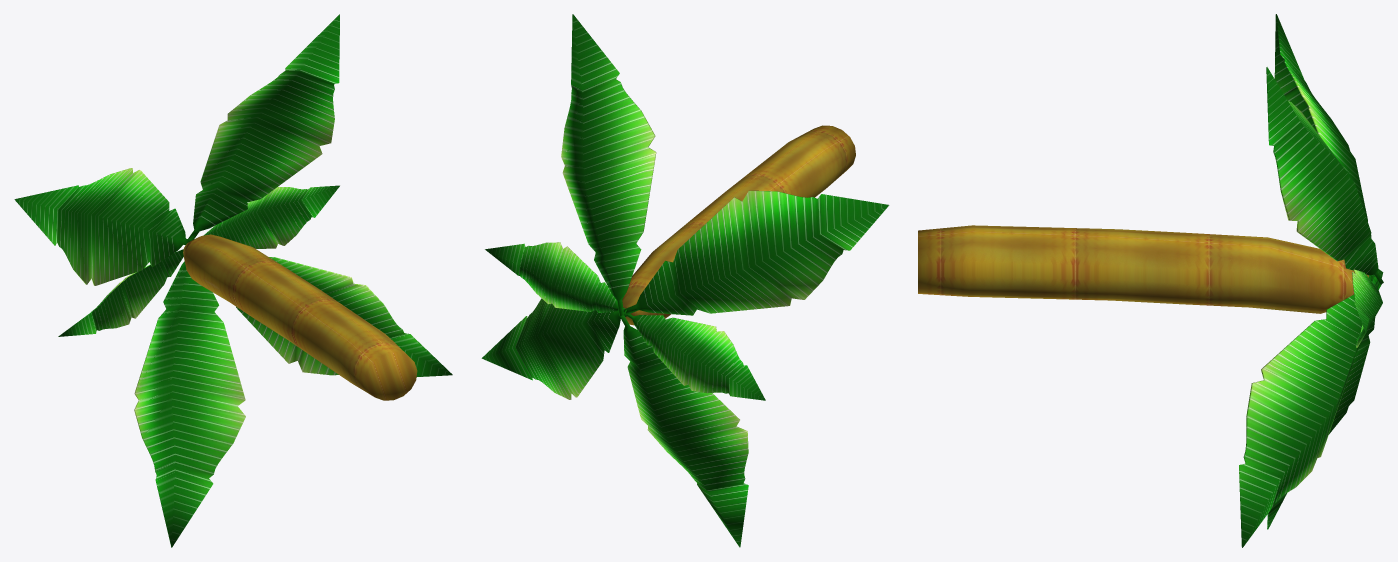
The model's file is PALMIER3.fbx.
3 views of the same model, side by side, from view 1: azimuth 30°, elevation 25°; view 2: azimuth 150°, elevation 25°; view 3: azimuth 270°, elevation 25° (orthographic). The views are drawn at different scales.
Parts seen in each view (by area): view 1: FEUILLES; view 2: FEUILLES; view 3: FEUILLES.
Part boxes in pixels (<box>): FEUILLES: <box>14,14,452,547</box>; FEUILLES: <box>481,14,889,547</box>; FEUILLES: <box>918,14,1383,547</box>.
Bounding box in the file's own units: 14.12 × 15.71 × 11.95.
